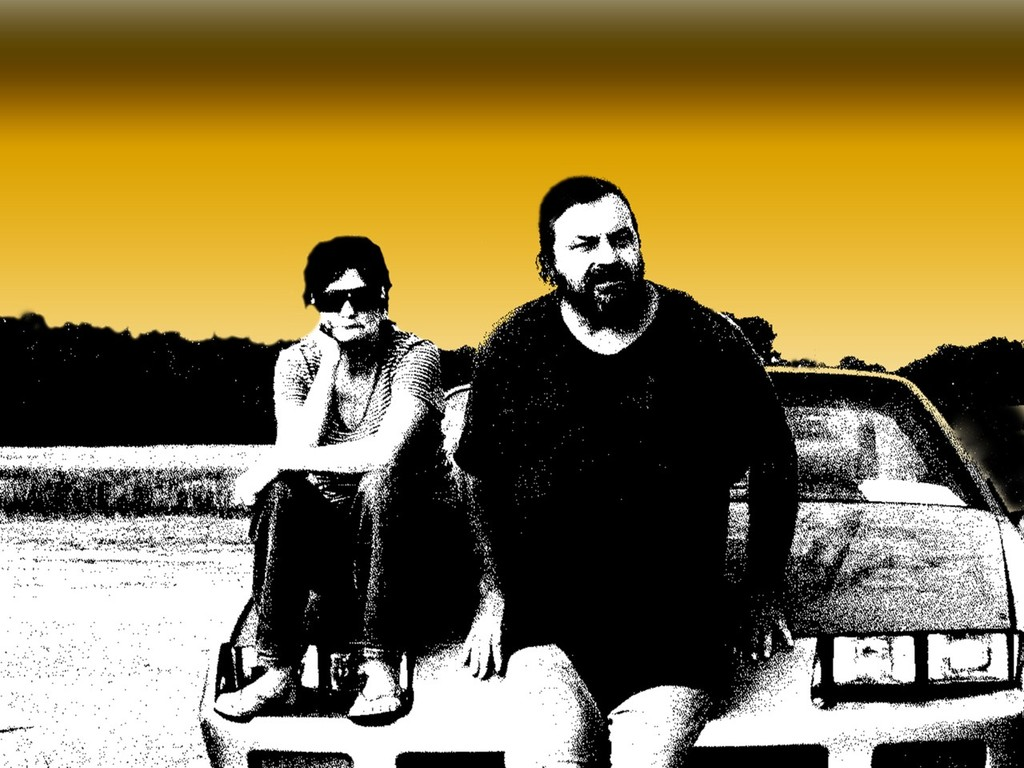Car: (199, 363, 1023, 767)
